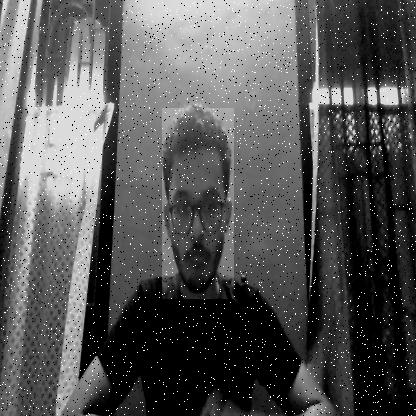Normal: (162, 108, 234, 299)
